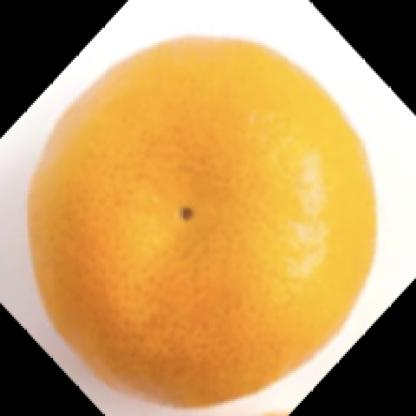fresh: (24, 37, 378, 404)
